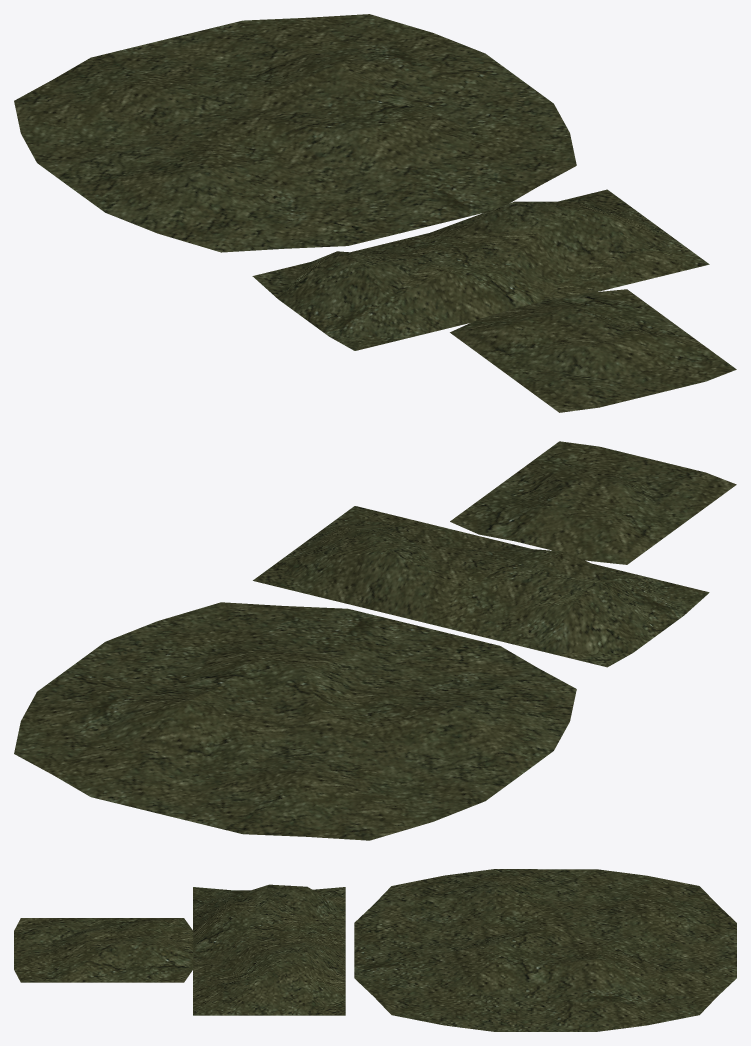
Rendered from SludgeAndDebris.fbx.
3 renders of one model, top to bottom at view 1: azimuth 30°, elevation 25°; view 2: azimuth 150°, elevation 25°; view 3: azimuth 270°, elevation 25°, orthographic. The views are drawn at different scales.
Visible parts, largest first — view 1: Prop_Sludge03, Prop_Sludge01, Prop_Sludge02; view 2: Prop_Sludge03, Prop_Sludge01, Prop_Sludge02; view 3: Prop_Sludge03, Prop_Sludge01, Prop_Sludge02.
Boxes of the visible parts, left/top/right/bottom form: Prop_Sludge03: left=14, top=14, right=576, bottom=252; Prop_Sludge01: left=252, top=189, right=709, bottom=350; Prop_Sludge02: left=450, top=289, right=736, bottom=412; Prop_Sludge03: left=14, top=602, right=576, bottom=840; Prop_Sludge01: left=253, top=506, right=709, bottom=667; Prop_Sludge02: left=450, top=441, right=736, bottom=564; Prop_Sludge03: left=354, top=869, right=736, bottom=1031; Prop_Sludge01: left=193, top=884, right=345, bottom=1015; Prop_Sludge02: left=14, top=918, right=193, bottom=982.
Bounding box in the file's own units: 505 × 42.98 × 948.
